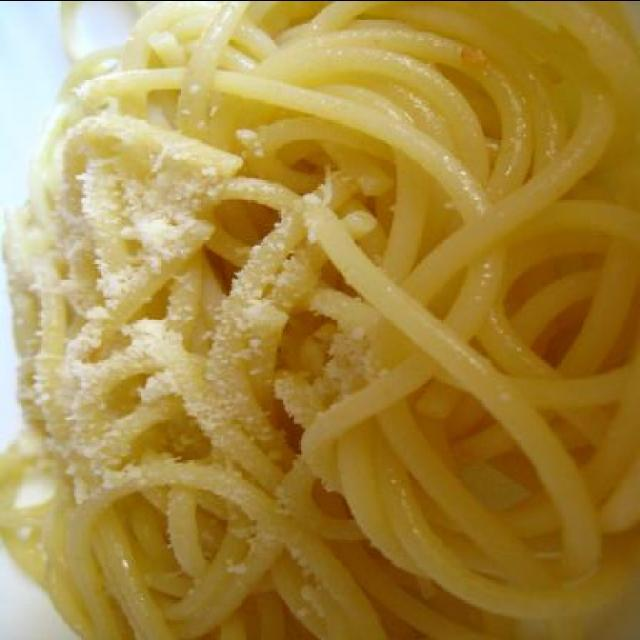Oil pasta: (9, 0, 640, 633)
